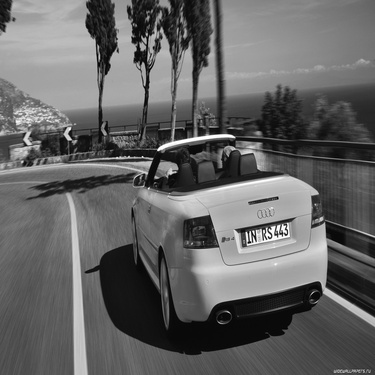car: (101, 128, 332, 335)
